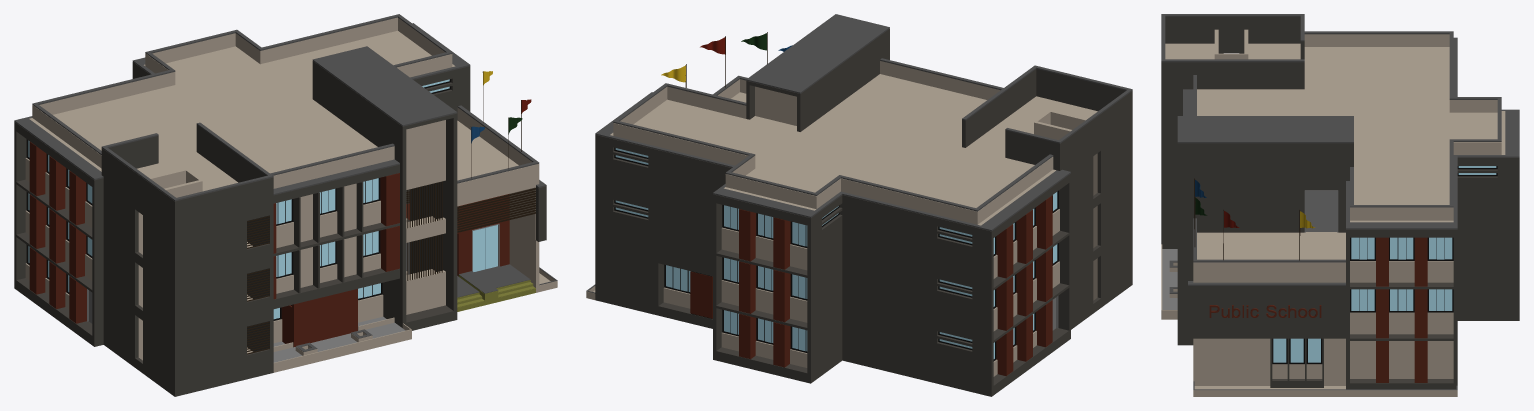
Rendered from School_Building_preview.FBX.
The picture shows the model from 3 angles, left to right: view 1: azimuth 30°, elevation 25°; view 2: azimuth 150°, elevation 25°; view 3: azimuth 270°, elevation 25°; orthographic projection. The views are drawn at different scales.
Visible parts, largest first — view 1: Layer:proj 1, Layer:basic wall, Layer:proj 2, Layer:proj 4, Layer:greel, Layer:win gls, Layer:win frem, Layer:plinth, Layer:mati 1, Layer:proj 3; view 2: Layer:proj 1, Layer:basic wall, Layer:proj 4, Layer:proj 2, Layer:win gls, Layer:win frem; view 3: Layer:basic wall, Layer:proj 1, Layer:proj 4, Layer:win gls, Layer:proj 2, Layer:win frem, Layer:win door, Layer:mati 1, Text001.
Boxes of the visible parts, bbox=[...] form: Layer:proj 1: bbox=[14, 61, 546, 396]; Layer:basic wall: bbox=[25, 17, 557, 372]; Layer:proj 2: bbox=[29, 141, 509, 347]; Layer:proj 4: bbox=[14, 14, 557, 351]; Layer:greel: bbox=[247, 181, 535, 354]; Layer:win gls: bbox=[28, 79, 497, 319]; Layer:win frem: bbox=[26, 79, 450, 320]; Layer:plinth: bbox=[406, 242, 530, 297]; Layer:mati 1: bbox=[273, 316, 405, 362]; Layer:proj 3: bbox=[457, 275, 535, 311]; Layer:proj 1: bbox=[595, 28, 1132, 396]; Layer:basic wall: bbox=[586, 61, 1097, 376]; Layer:proj 4: bbox=[586, 14, 1132, 293]; Layer:proj 2: bbox=[690, 195, 1052, 376]; Layer:win gls: bbox=[615, 148, 1057, 358]; Layer:win frem: bbox=[614, 147, 1058, 361]; Layer:basic wall: bbox=[1161, 29, 1505, 396]; Layer:proj 1: bbox=[1161, 16, 1519, 389]; Layer:proj 4: bbox=[1161, 14, 1519, 390]; Layer:win gls: bbox=[1273, 166, 1496, 362]; Layer:proj 2: bbox=[1376, 237, 1427, 382]; Layer:win frem: bbox=[1272, 166, 1497, 364]; Layer:win door: bbox=[1304, 190, 1338, 232]; Layer:mati 1: bbox=[1162, 249, 1177, 309]; Text001: bbox=[1209, 305, 1321, 317].
Size of the model in its own units: 1068 by 520 by 830.
